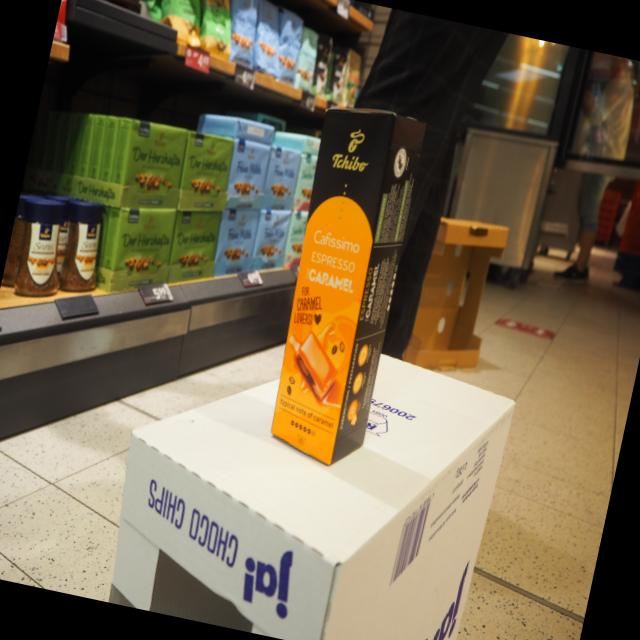Simo Es Caramel: (267, 100, 399, 468)
